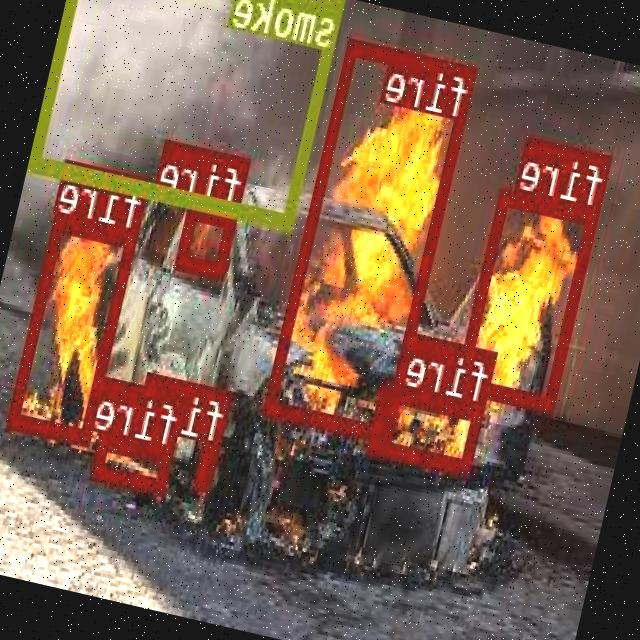fire: (266, 38, 478, 440), (457, 186, 602, 410), (9, 213, 140, 442), (368, 380, 488, 473), (94, 432, 175, 492), (178, 200, 240, 277), (197, 440, 222, 488)
smoke: (32, 0, 346, 225)
